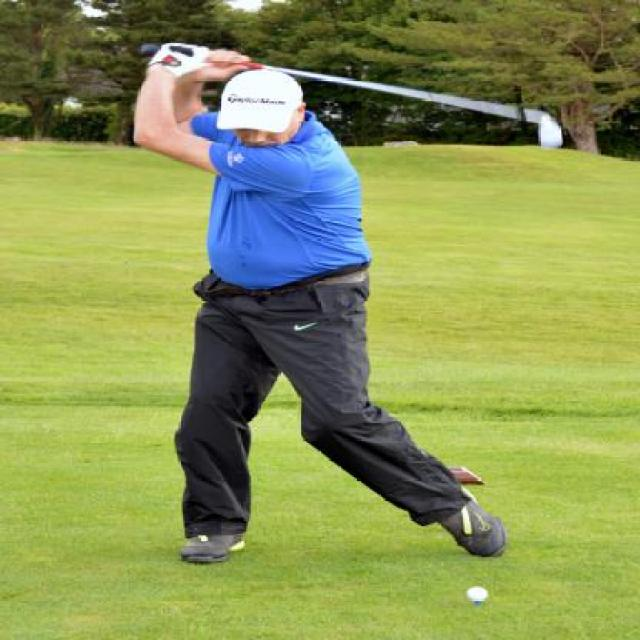club head: (521, 106, 565, 151)
